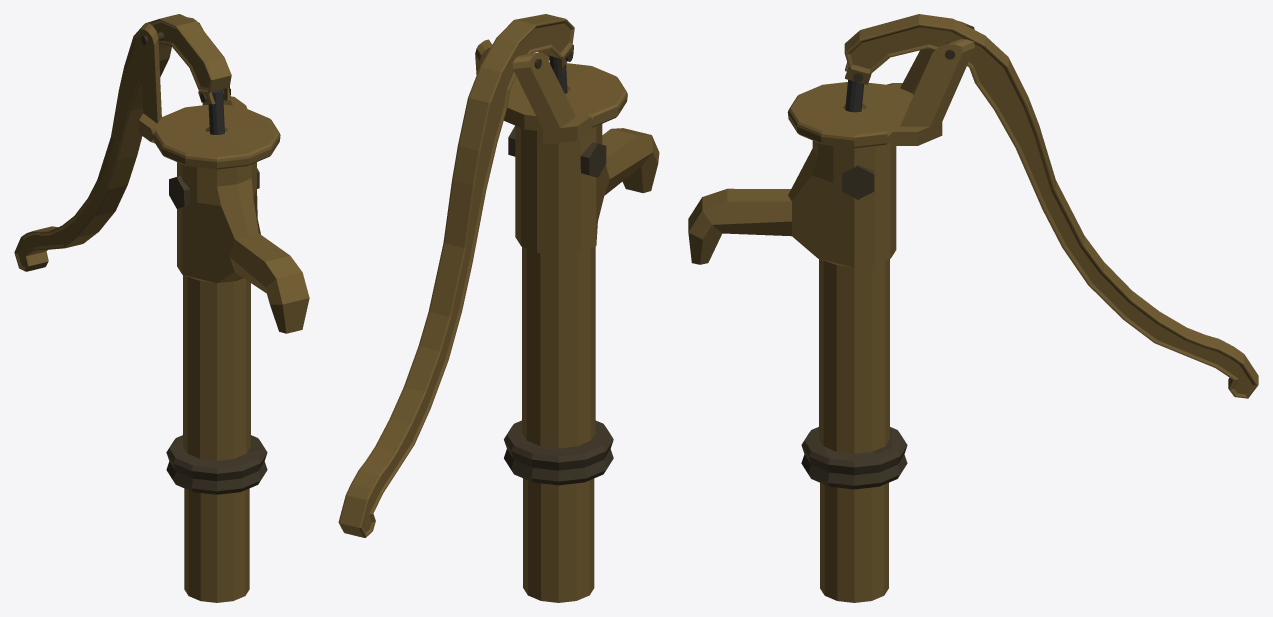
The model's file is Grifo Rustico.fbx.
3 renders of one model, left to right at view 1: azimuth 30°, elevation 25°; view 2: azimuth 150°, elevation 25°; view 3: azimuth 270°, elevation 25°, orthographic. The views are drawn at different scales.
Visible parts, largest first — view 1: Grifo; view 2: Grifo; view 3: Grifo.
Part boxes in pixels (x1=…): Grifo: x1=14, y1=14, x2=309, y2=602; Grifo: x1=338, y1=14, x2=659, y2=602; Grifo: x1=688, y1=14, x2=1258, y2=602.
Size of the model in its own units: 35.99 by 170 by 154.
